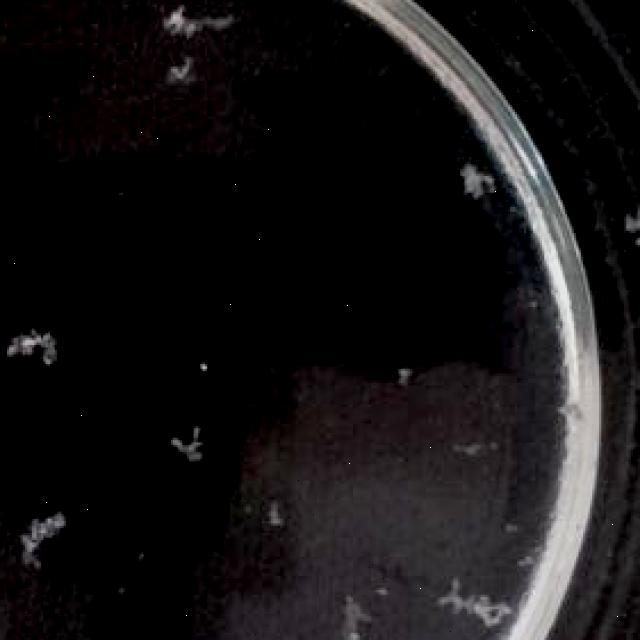Microplastic: (5, 502, 82, 576), (435, 580, 517, 638), (155, 0, 244, 45), (332, 564, 376, 640), (11, 319, 66, 371), (250, 495, 294, 552), (164, 40, 210, 81), (451, 431, 501, 464), (159, 428, 212, 457), (458, 159, 492, 200), (510, 535, 544, 576), (390, 350, 412, 392)
